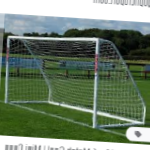goals: (3, 34, 149, 127)
